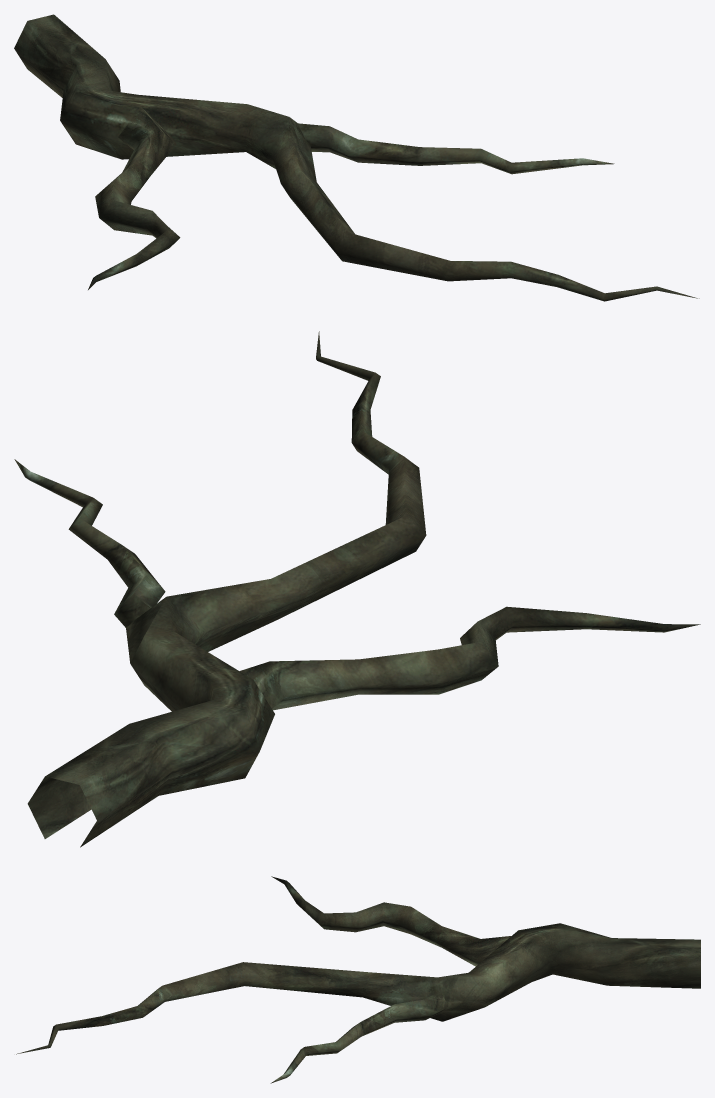
File: Roots3.fbx
The picture shows the model from 3 angles, top to bottom: view 1: azimuth 30°, elevation 25°; view 2: azimuth 150°, elevation 25°; view 3: azimuth 270°, elevation 25°; orthographic projection. The views are drawn at different scales.
Visible parts, largest first — view 1: polySurface3131; view 2: polySurface3131; view 3: polySurface3131.
Part boxes in pixels (x1,y1,x2,y2): polySurface3131: (14, 14, 699, 301); polySurface3131: (14, 331, 700, 847); polySurface3131: (16, 876, 700, 1083).
Bounding box in the file's own units: 3.57 × 0.3412 × 5.03.
